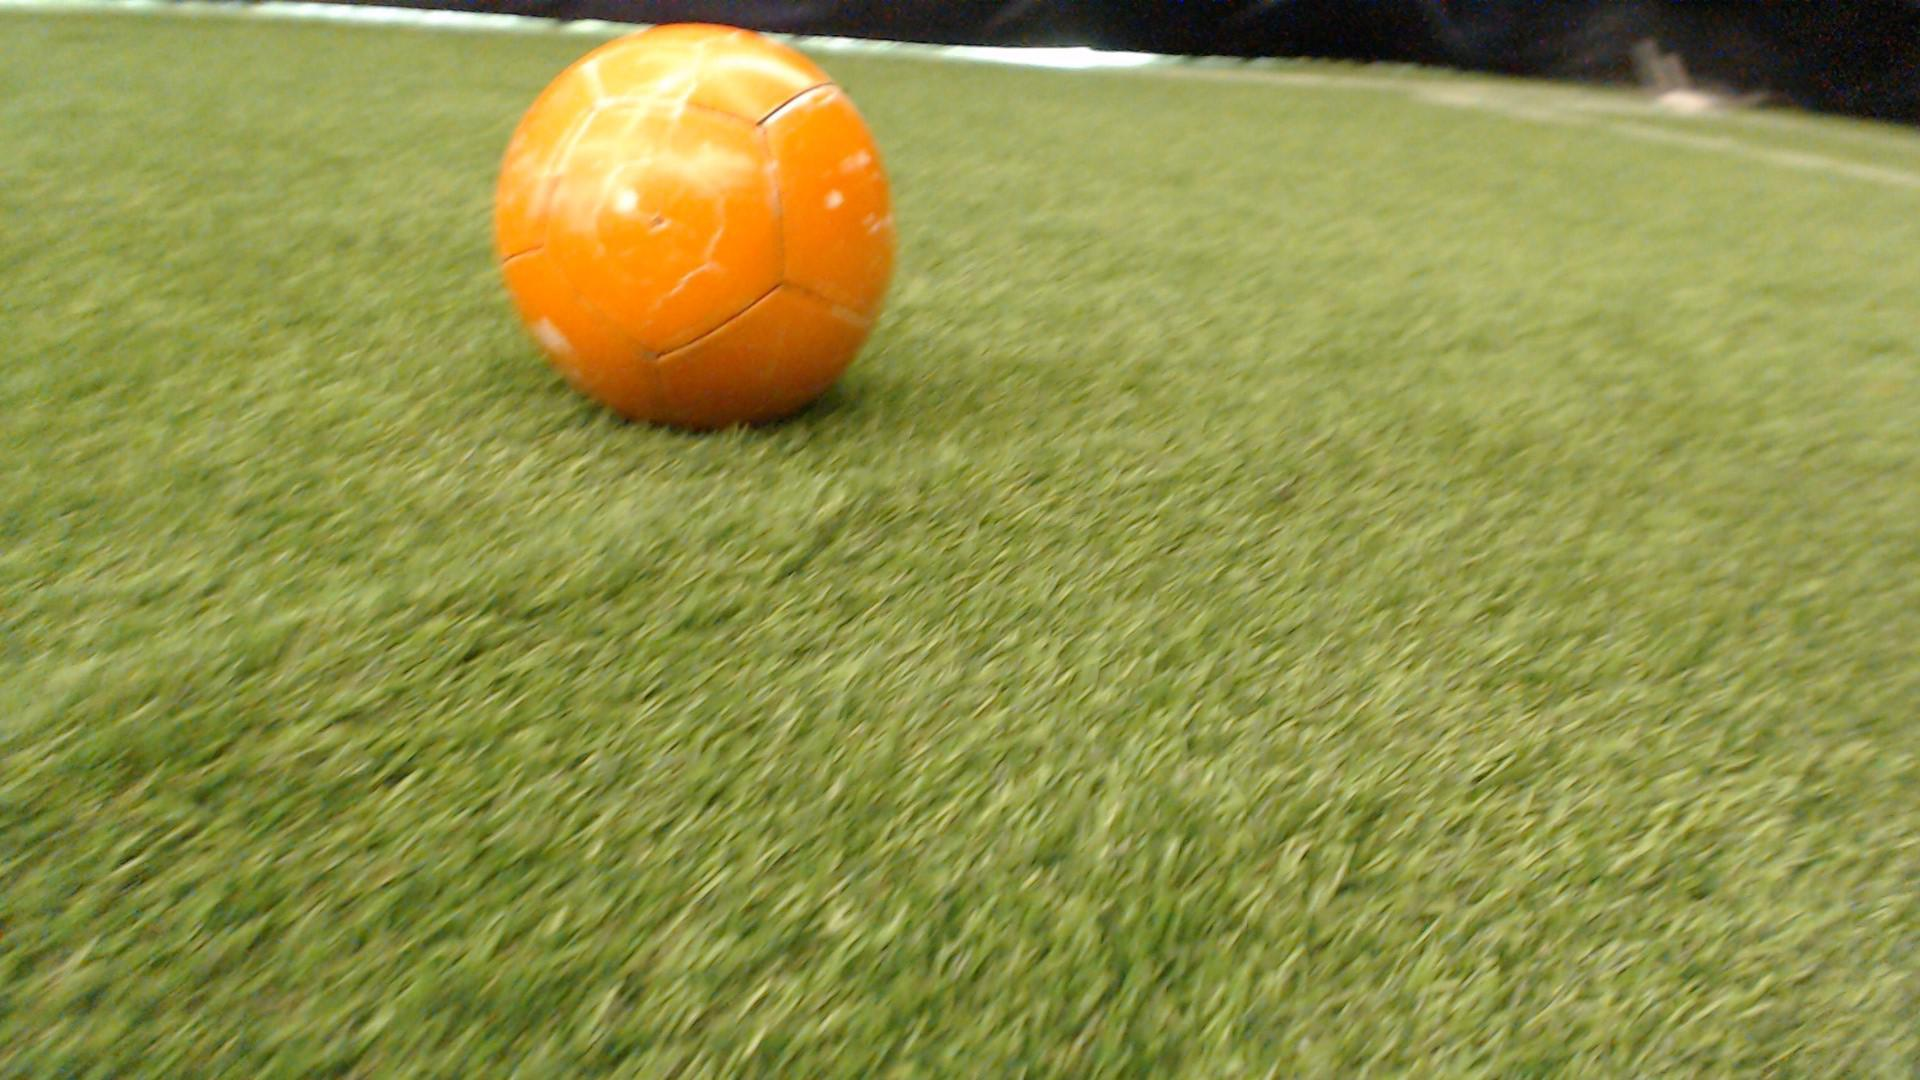bola: (458, 5, 947, 491)
